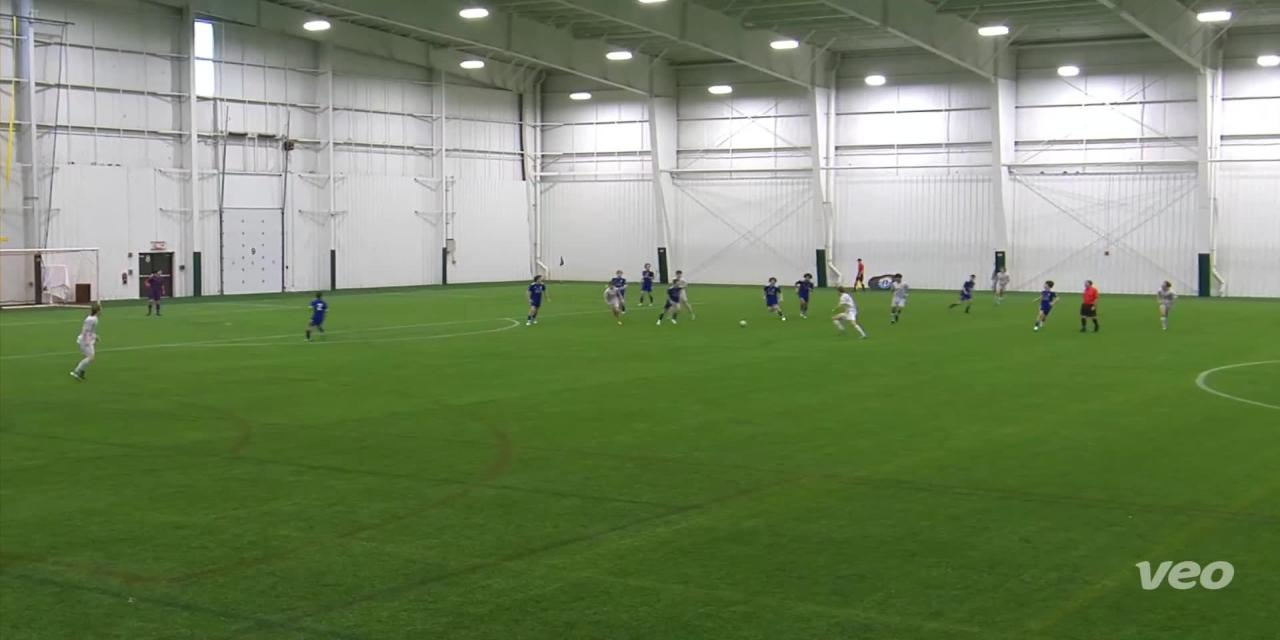goal: (0, 242, 109, 314)
sports ball: (733, 314, 754, 332)
